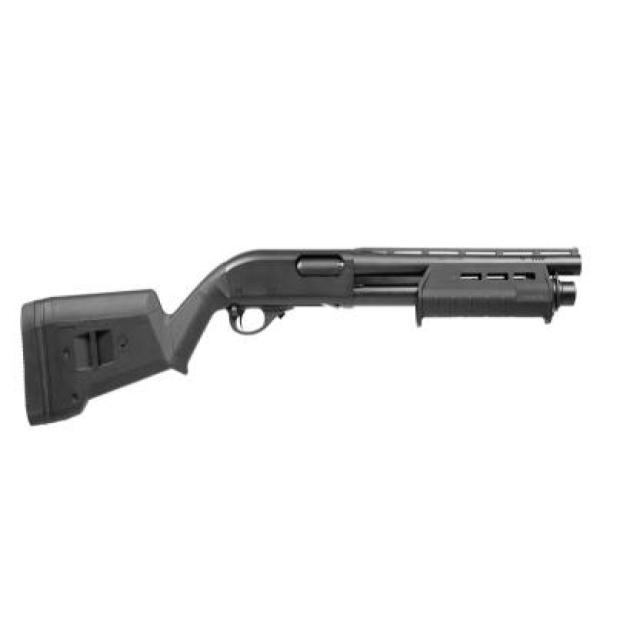weapon: (17, 240, 585, 431)
